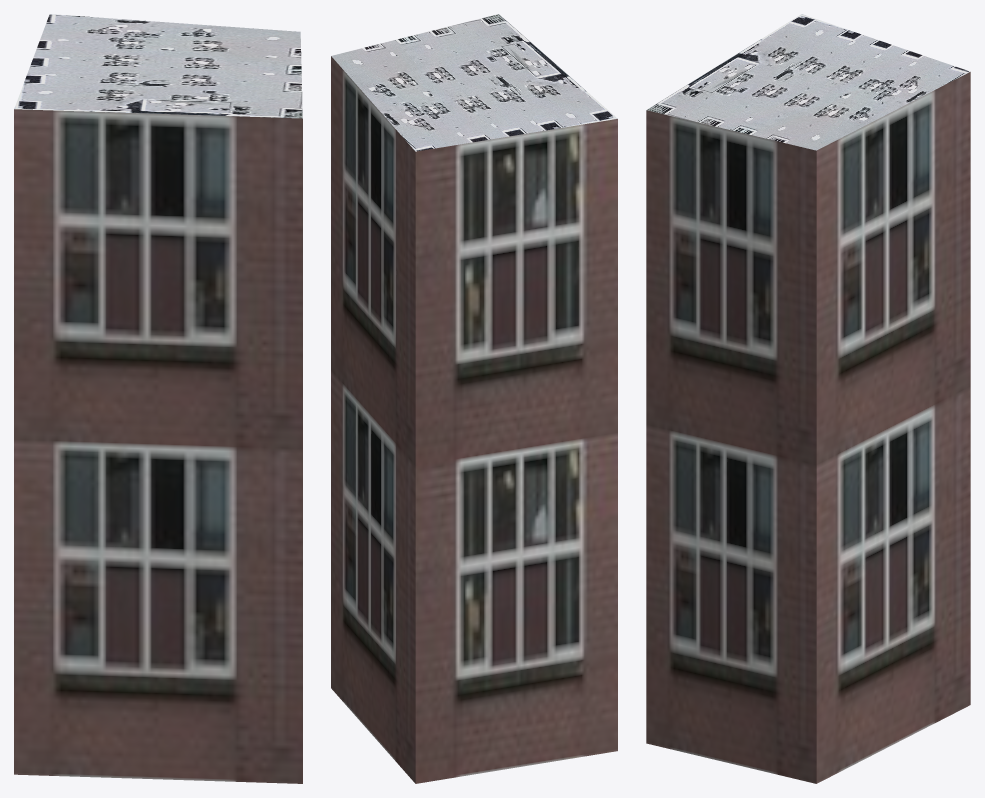
The model's file is ResTex__3891.fbx.
3 renders of one model, left to right at view 1: azimuth 30°, elevation 25°; view 2: azimuth 150°, elevation 25°; view 3: azimuth 270°, elevation 25°, orthographic. The views are drawn at different scales.
Parts seen in each view (by area): view 1: CityEngineMaterial_12_m, CityEngineMaterial_4_m; view 2: CityEngineMaterial_12_m, CityEngineMaterial_4_m; view 3: CityEngineMaterial_12_m, CityEngineMaterial_4_m.
Part boxes in pixels (box(x1,y1,x2,y2)): CityEngineMaterial_12_m: box(14, 109, 302, 783); CityEngineMaterial_4_m: box(14, 14, 302, 118); CityEngineMaterial_12_m: box(331, 56, 617, 783); CityEngineMaterial_4_m: box(331, 14, 617, 151); CityEngineMaterial_12_m: box(646, 72, 970, 783); CityEngineMaterial_4_m: box(646, 14, 969, 150).
Bounding box in the file's own units: 2.78 × 6 × 2.78.
Materials: 2 (2 with a texture image).
